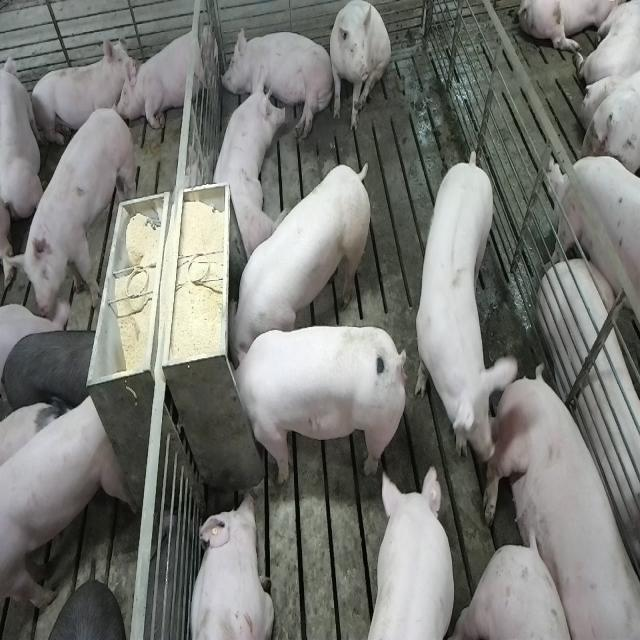Feeding: (228, 161, 376, 363), (230, 324, 412, 484)
Lateral_lying: (488, 368, 640, 640), (539, 257, 640, 594), (220, 23, 334, 140)
Sitting: (328, 1, 391, 134)
Standing: (415, 146, 517, 458), (2, 389, 128, 629), (16, 104, 134, 324), (547, 159, 640, 346), (361, 465, 460, 640), (4, 326, 104, 416)
Sternal_lying: (207, 73, 283, 259), (188, 490, 274, 640), (28, 36, 134, 152), (125, 20, 215, 132)
